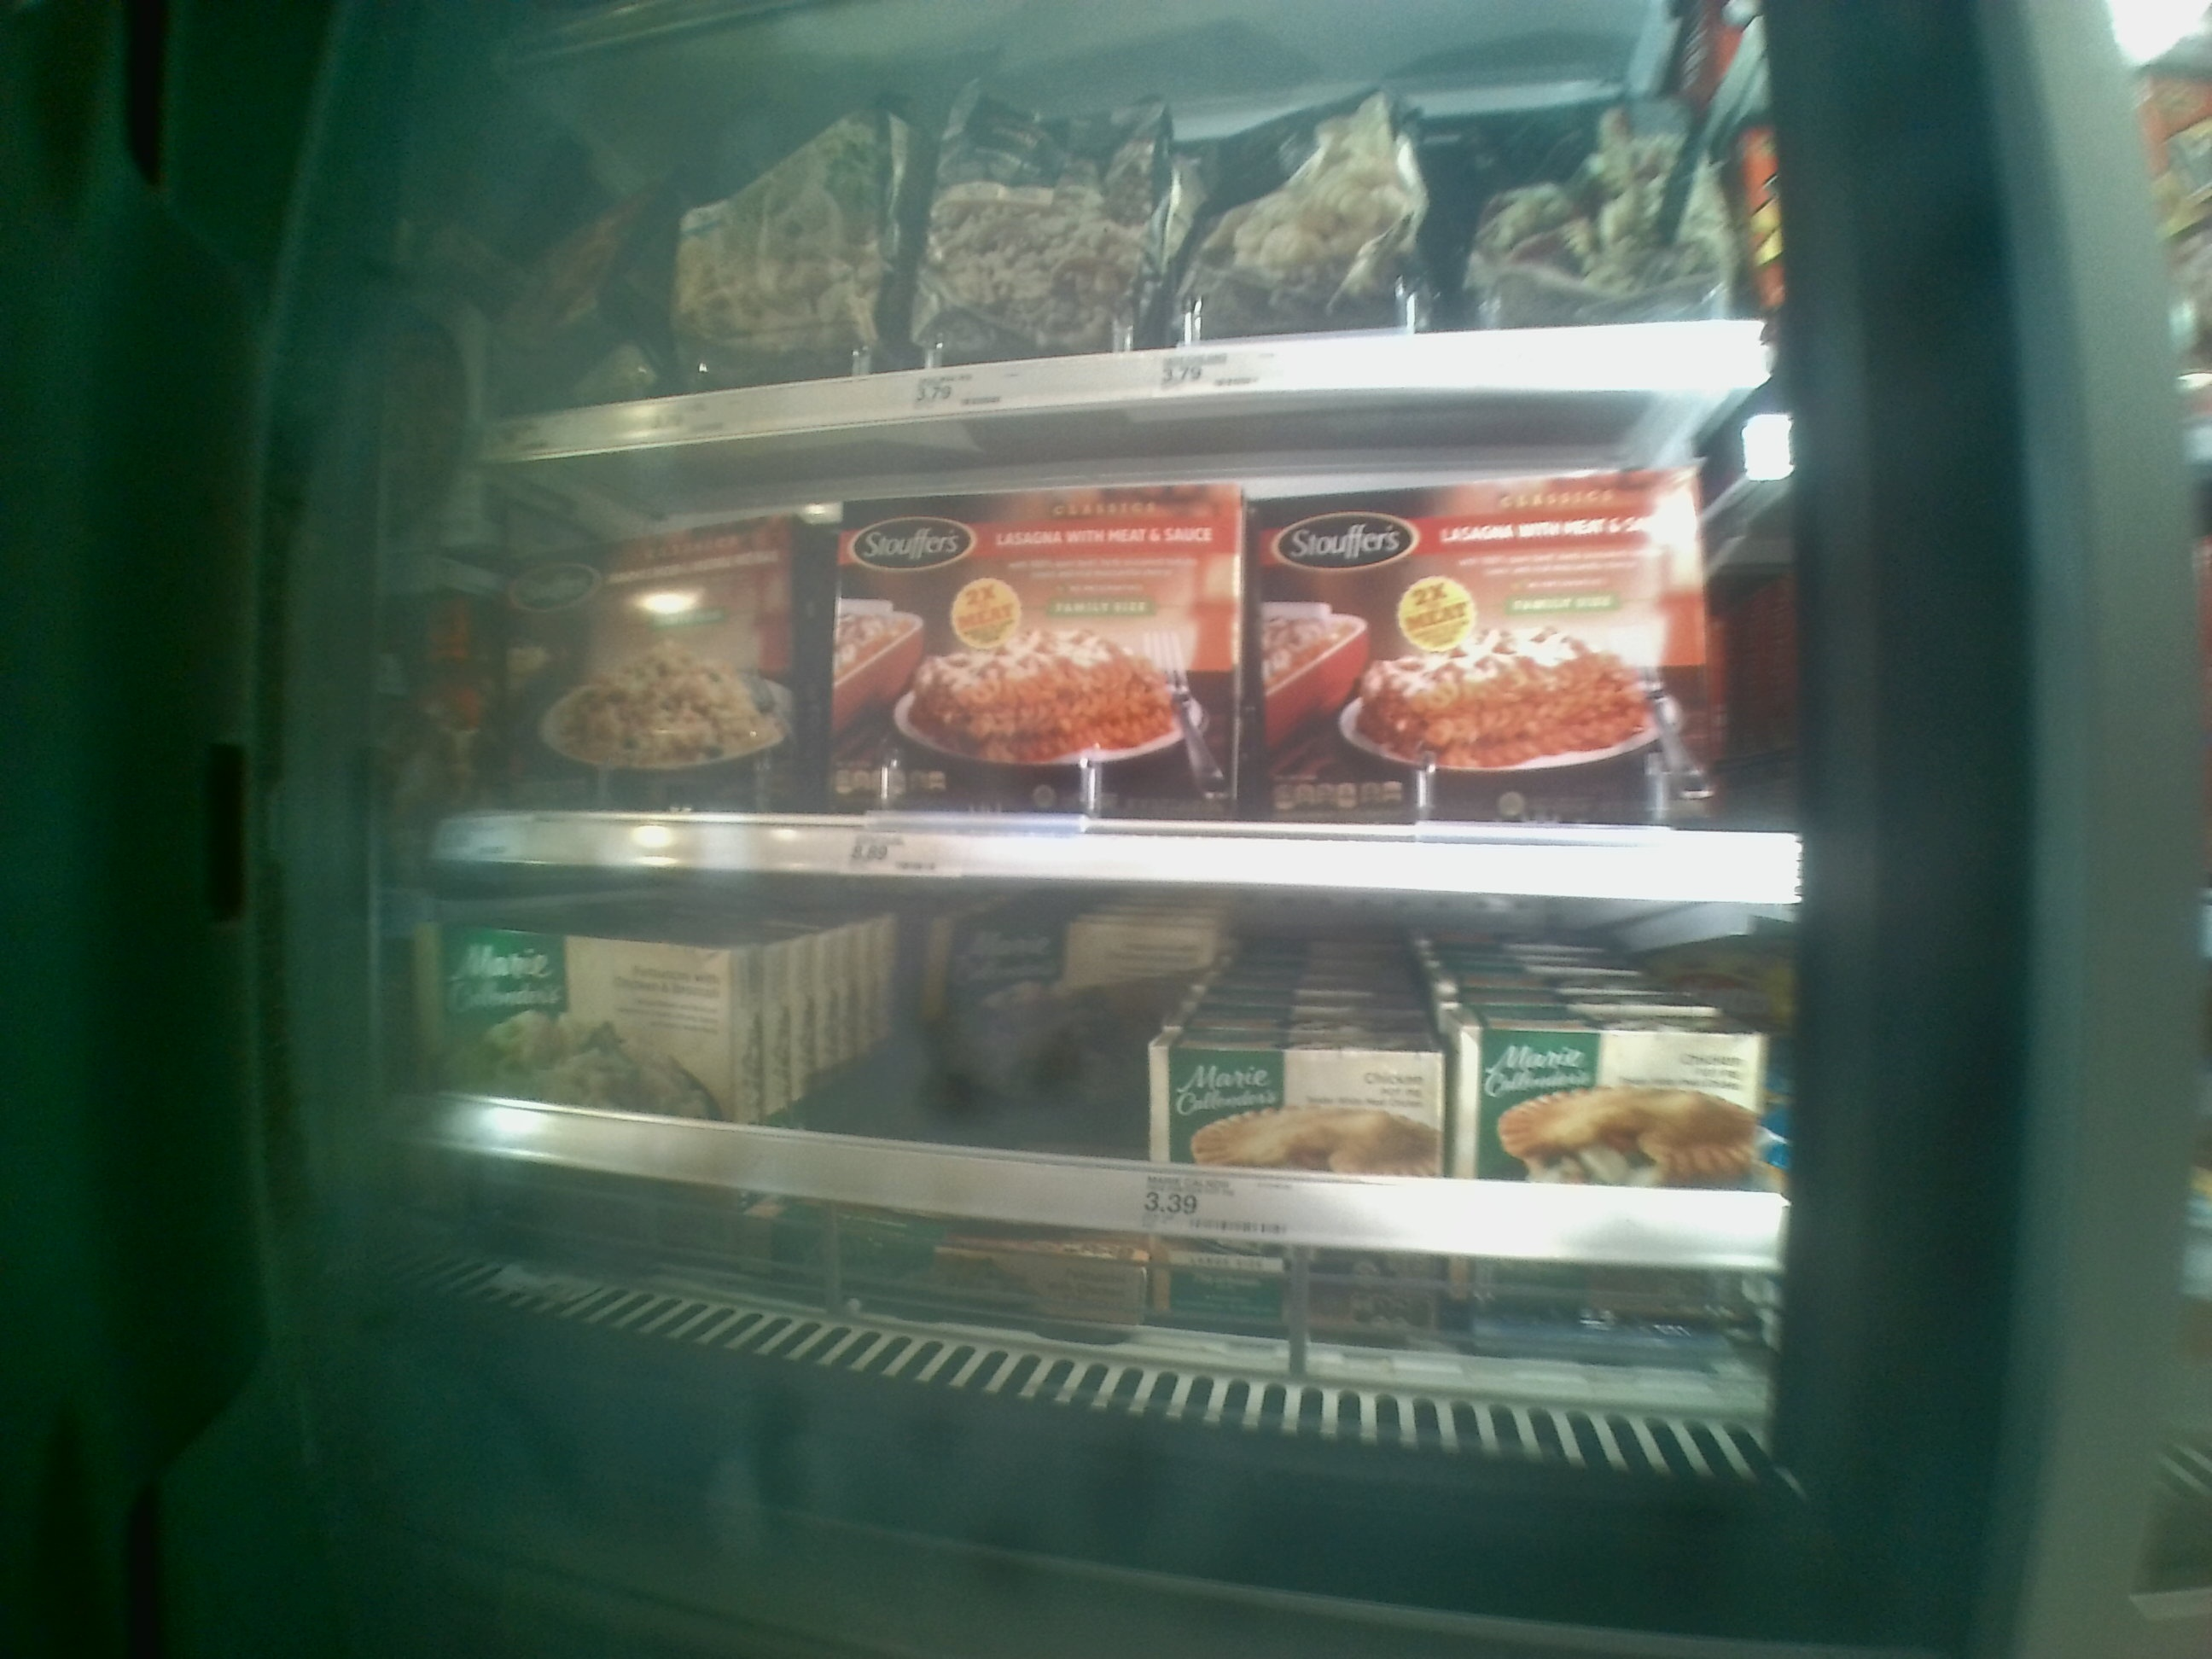shelf: (439, 878, 1787, 1410), (444, 406, 1756, 887)
